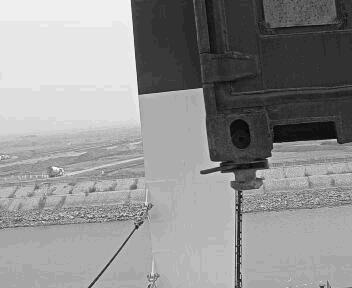twist_lock_1: (182, 127, 210, 152)
